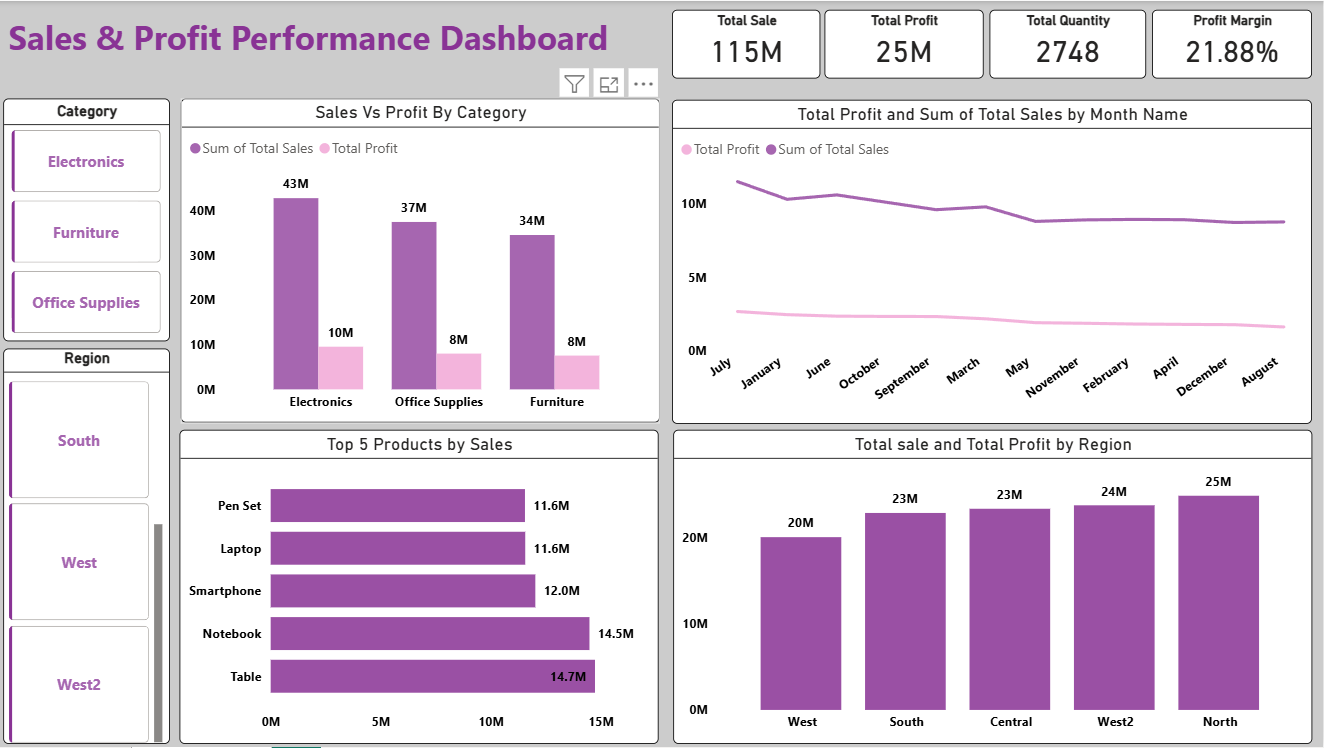

This screenshot's page, from the dashboard's own definition file:
{"tool":"powerbi","page":{"name":"sales & Profit","canvas":[1280,720],"ordinal":0},"visuals":[{"type":"card","title":"Total Sale","fields":{"Values":["Sum(Sales_Transactions.Total Sales)"]},"box":[651.5,8.4,143.6,66.4],"z":0},{"type":"card","title":"Total Profit","fields":{"Values":["Sales_Transactions.Total Profit"]},"box":[798.7,8.4,153.2,66.4],"z":1000},{"type":"card","title":"Total Quantity","fields":{"Values":["Sales_Transactions.Total Quantity"]},"box":[957.9,8.4,150.8,66.4],"z":2000},{"type":"card","title":"Profit Margin","fields":{"Values":["Sales_Transactions.Profit Marfin"]},"box":[1114.8,8.4,154.4,66.4],"z":3000},{"type":"clusteredColumnChart","title":"Sales Vs Profit By Category","fields":{"Category":["Sales_Transactions.Category"],"Y":["Sum(Sales_Transactions.Total Sales)","Sales_Transactions.Total Profit"]},"box":[177,94.7,462.4,312.9],"z":4000},{"type":"barChart","title":"Top 5 Products by Sales","fields":{"Category":["Sales_Transactions.ProductName"],"Y":["Sales_Transactions.Total sale"]},"box":[176.1,413.8,462.1,302.8],"z":5000},{"type":"clusteredColumnChart","fields":{"Category":["Sales_Transactions.Region"],"Y":["Sales_Transactions.Total sale"]},"box":[652.7,413.8,616.5,302.8],"z":6000},{"type":"advancedSlicerVisual","fields":{"Values":["Sales_Transactions.Category"]},"box":[5.5,94.7,160.5,234.6],"z":7000},{"type":"advancedSlicerVisual","fields":{"Values":["Sales_Transactions.Region"]},"box":[6,335.4,160.5,381.2],"z":8000},{"type":"lineChart","fields":{"Y":["Sales_Transactions.Total Profit","Sum(Sales_Transactions.Total Sales)"],"Category":["Sales_Transactions.Month Name"]},"box":[651.5,95.3,617.7,312.5],"z":9000},{"type":"textbox","box":[6,8.4,620.1,66.4],"z":10000}]}

Visuals, with their boxes in screenshot pixels (x1, y1, x2, y2), scaled from the page's 1280x720 canvas onto the 1324x748 screenshot:
"Total Sale" card: Rect(674, 9, 822, 78)
"Total Profit" card: Rect(826, 9, 985, 78)
"Total Quantity" card: Rect(991, 9, 1147, 78)
"Profit Margin" card: Rect(1153, 9, 1313, 78)
"Sales Vs Profit By Category" clusteredColumnChart: Rect(183, 98, 661, 423)
"Top 5 Products by Sales" barChart: Rect(182, 430, 660, 744)
clusteredColumnChart - Sales_Transactions.Region x Sales_Transactions.Total sale: Rect(675, 430, 1313, 744)
advancedSlicerVisual - Sales_Transactions.Category: Rect(6, 98, 172, 342)
advancedSlicerVisual - Sales_Transactions.Region: Rect(6, 348, 172, 744)
lineChart - Sales_Transactions.Total Profit x Sum(Sales_Transactions.Total Sales): Rect(674, 99, 1313, 424)
textbox: Rect(6, 9, 648, 78)
